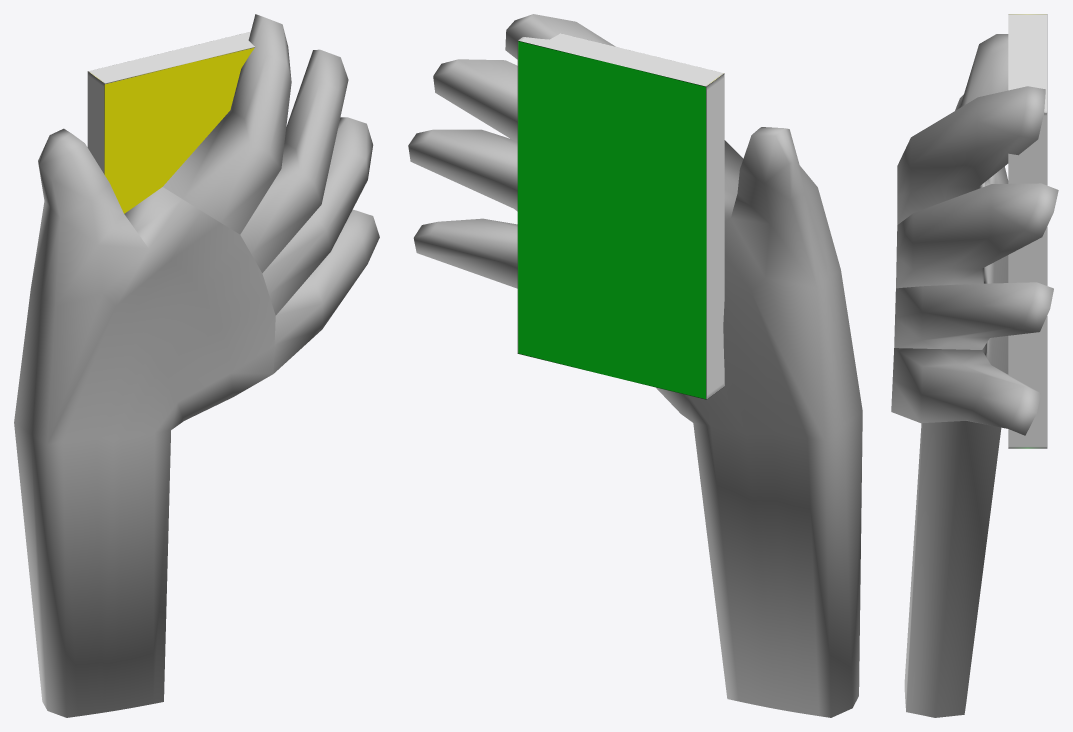
File: sumaho.obj
The picture shows the model from 3 angles, left to right: view 1: azimuth 30°, elevation 25°; view 2: azimuth 150°, elevation 25°; view 3: azimuth 270°, elevation 25°; orthographic projection. The views are drawn at different scales.
Parts seen in each view (by area): view 1: Cube; view 2: Cube; view 3: Cube.
Boxes of the visible parts, <box> form: Cube: <box>14,14,379,717</box>; Cube: <box>408,14,862,717</box>; Cube: <box>891,14,1058,717</box>.
Size of the model in its own units: 2.54 by 4.04 by 0.8592.
1 material, 1 textured.
